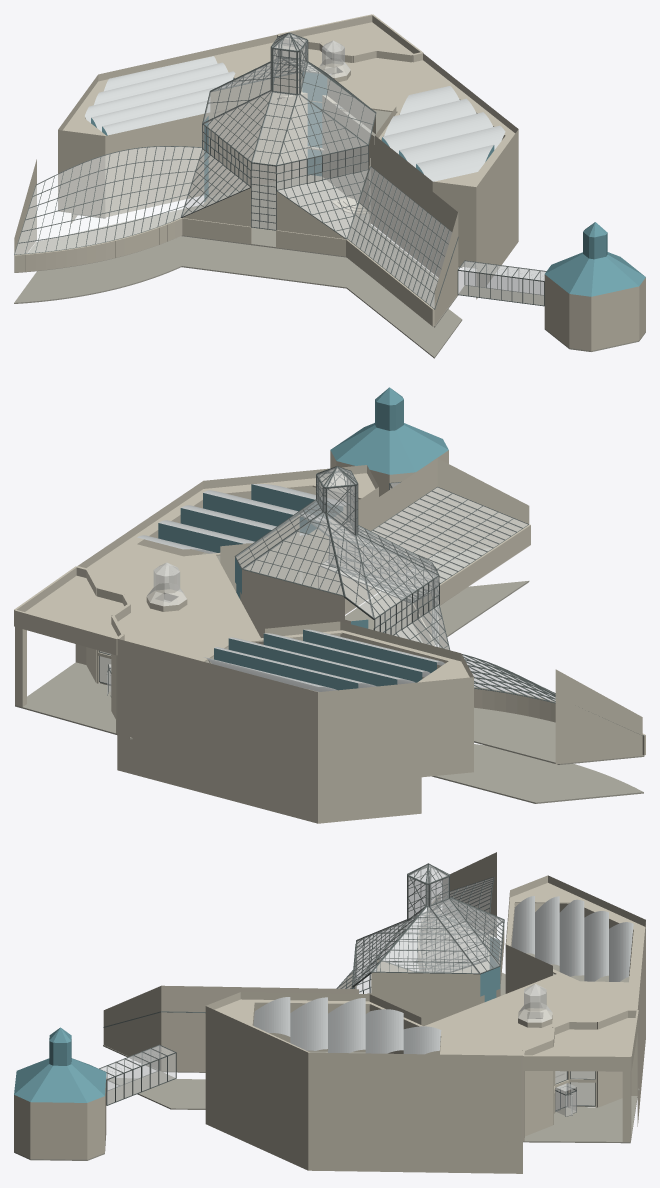
Rendered from MUDAM_R03_MERDIVEN_CAM_DONUSU_v003_preview.glb.
3 views of the same model, one above another, from view 1: azimuth 30°, elevation 25°; view 2: azimuth 150°, elevation 25°; view 3: azimuth 270°, elevation 25° (orthographic). The views are drawn at different scales.
Visible parts, largest first — view 1: P05_ZONE_LM1_GALLERIES_FOYER, P05_MAIN_ROOF_DECK, P05_GALLERY_HALL_WEST1, P05_MAIN_ATRIUM_BASE_3, P05_EAST_HIGH_R02_BEFORE, P04_PAV_WALL_ENVELOPE, P05_FRONT_0, P05_FLOOR_L00_GH, P05_GALLERY_HALL_WEST2, P05_MAIN_ATRIUM_BASE_5_R02_BEFORE, P04_PAV_ROOF_SLOPE, P05_FLOOR_L00_WEST_CAFE (+20 smaller); view 2: P05_FRONT_9, P05_MAIN_ROOF_DECK, P05_FRONT_10, P05_ZONE_LM1_GALLERIES_FOYER, P05_EAST_HIGH_R02_BEFORE, P05_WEST_END, P05_EAST_END, P05_GALLERY_HALL_WEST3, P04_PAV_ROOF_SLOPE, P07_CANOPY_PAVING_DISPLAY, P05_FLOOR_L00_WEST_CAFE, P07_CANOPY_SLAB_ENVELOPE (+25 smaller); view 3: P05_FRONT_1, P05_MAIN_ROOF_DECK, P05_FRONT_0, P04_PAV_WALL_ENVELOPE, P05_EAST_HIGH_R02_BEFORE, P05_EAST_END, P04_PAV_ROOF_SLOPE, P07_CANOPY_PAVING_DISPLAY, P06_HIGH_EAVE_UPSTAND_5, P07_CANOPY_SLAB_ENVELOPE, P05_WEST_END, P07_ENTRY_RETURN_1 (+15 smaller).
Part boxes in pixels (<box>): P05_ZONE_LM1_GALLERIES_FOYER: <box>14,236,462,358</box>; P05_MAIN_ROOF_DECK: <box>62,42,517,186</box>; P05_GALLERY_HALL_WEST1: <box>105,112,212,217</box>; P05_MAIN_ATRIUM_BASE_3: <box>208,93,307,196</box>; P05_EAST_HIGH_R02_BEFORE: <box>370,142,457,277</box>; P04_PAV_WALL_ENVELOPE: <box>544,274,645,350</box>; P05_FRONT_0: <box>476,129,518,299</box>; P05_FLOOR_L00_GH: <box>182,176,370,257</box>; P05_GALLERY_HALL_WEST2: <box>58,130,105,217</box>; P05_MAIN_ATRIUM_BASE_5_R02_BEFORE: <box>322,95,369,213</box>; P04_PAV_ROOF_SLOPE: <box>545,252,645,296</box>; P05_FLOOR_L00_WEST_CAFE: <box>14,204,202,272</box>; P05_FRONT_9: <box>117,639,317,823</box>; P05_MAIN_ROOF_DECK: <box>86,473,473,701</box>; P05_FRONT_10: <box>318,682,421,823</box>; P05_ZONE_LM1_GALLERIES_FOYER: <box>432,581,643,803</box>; P05_EAST_HIGH_R02_BEFORE: <box>319,458,437,614</box>; P05_WEST_END: <box>555,669,642,764</box>; P05_EAST_END: <box>437,458,529,552</box>; P05_GALLERY_HALL_WEST3: <box>421,677,473,777</box>; P04_PAV_ROOF_SLOPE: <box>330,423,448,474</box>; P07_CANOPY_PAVING_DISPLAY: <box>15,662,117,734</box>; P05_FLOOR_L00_WEST_CAFE: <box>474,707,644,764</box>; P07_CANOPY_SLAB_ENVELOPE: <box>25,575,124,637</box>; P05_FRONT_1: <box>308,1052,522,1173</box>; P05_MAIN_ROOF_DECK: <box>207,883,645,1064</box>; P05_FRONT_0: <box>205,1006,308,1170</box>; P04_PAV_WALL_ENVELOPE: <box>14,1077,106,1159</box>; P05_EAST_HIGH_R02_BEFORE: <box>161,985,358,1071</box>; P05_EAST_END: <box>103,986,161,1070</box>; P04_PAV_ROOF_SLOPE: <box>14,1058,106,1102</box>; P07_CANOPY_PAVING_DISPLAY: <box>523,1096,637,1143</box>; P06_HIGH_EAVE_UPSTAND_5: <box>371,972,480,996</box>; P07_CANOPY_SLAB_ENVELOPE: <box>533,1018,635,1055</box>; P05_WEST_END: <box>442,852,496,937</box>; P07_ENTRY_RETURN_1: <box>522,1039,553,1136</box>.
Bounding box in the file's own units: 80.45 × 35.94 × 93.28.
